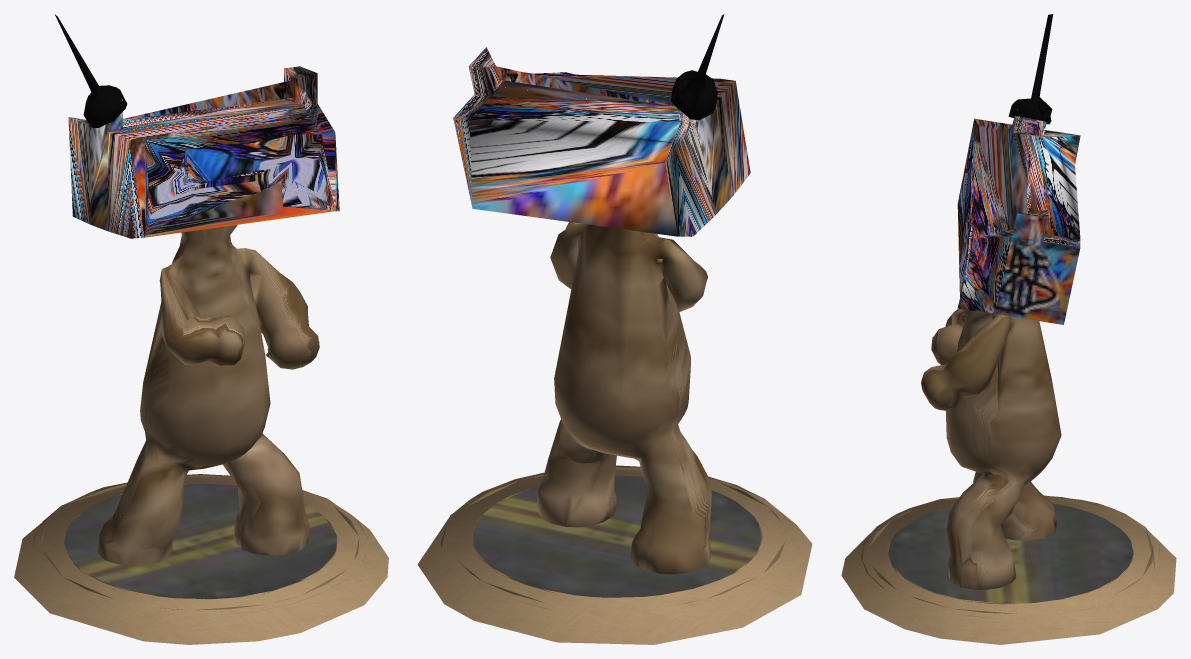
The picture shows the model from 3 angles, left to right: view 1: azimuth 30°, elevation 25°; view 2: azimuth 150°, elevation 25°; view 3: azimuth 270°, elevation 25°; orthographic projection. The views are drawn at different scales.
Size of the model in its own units: 1.44 by 2.38 by 1.43.
5 materials, 4 textured.
